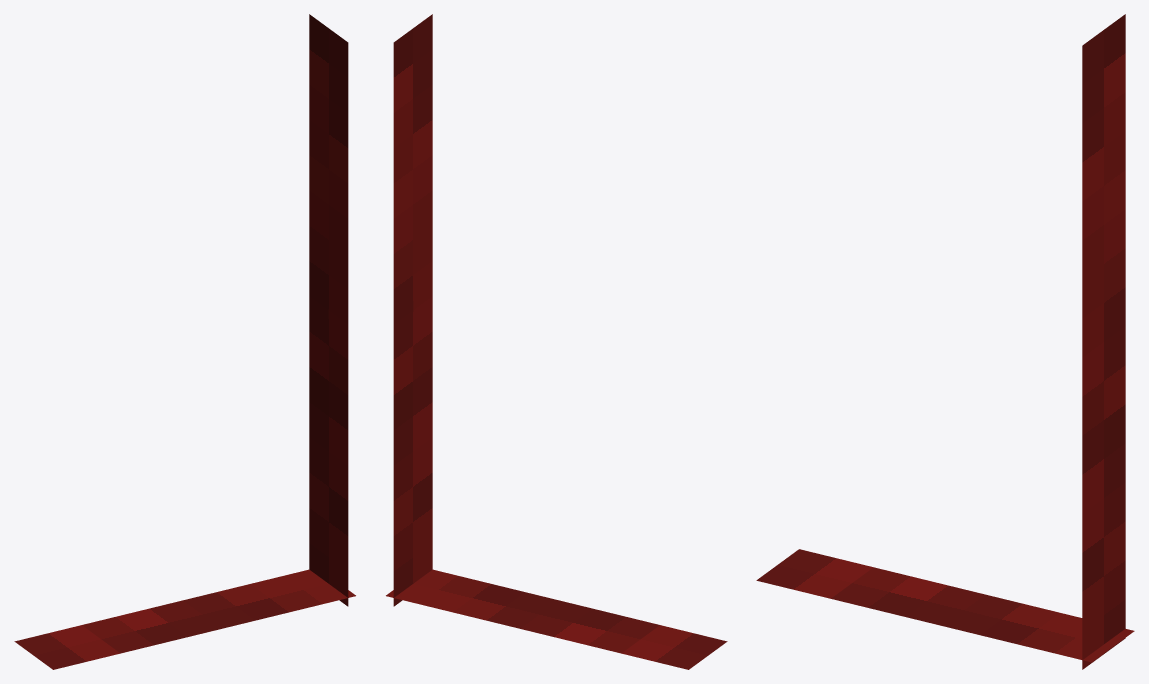
Rendered from dust_2000.gltf.
The picture shows the model from 3 angles, left to right: view 1: azimuth 30°, elevation 25°; view 2: azimuth 150°, elevation 25°; view 3: azimuth 330°, elevation 25°; orthographic projection. The views are drawn at different scales.
Parts seen in each view (by area): view 1: dust_2000; view 2: dust_2000; view 3: dust_2000.
Boxes of the visible parts, bbox=[...] form: dust_2000: bbox=[14, 14, 355, 669]; dust_2000: bbox=[386, 14, 727, 669]; dust_2000: bbox=[756, 14, 1134, 669].
Bounding box in the file's own units: 0.5625 × 1 × 0.125.
1 material, 1 textured.
